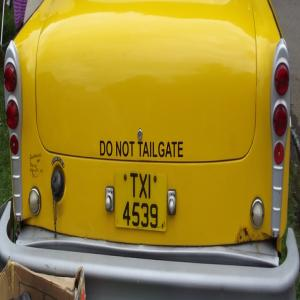Vehicle-registration-plate: (116, 169, 168, 234)
